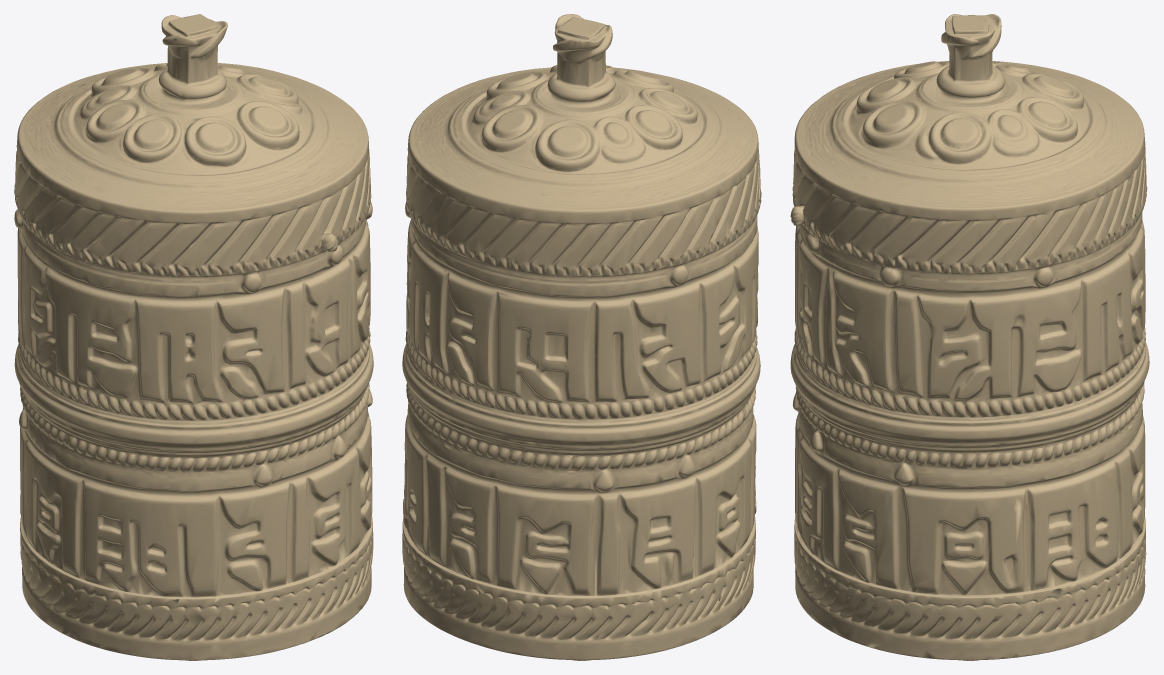
Rendered from act4_prayer_wheel_v2.glb.
3 views of the same model, side by side, from view 1: azimuth 30°, elevation 25°; view 2: azimuth 150°, elevation 25°; view 3: azimuth 270°, elevation 25° (orthographic).
Bounding box in the file's own units: 0.6204 × 1.2 × 0.6199.
